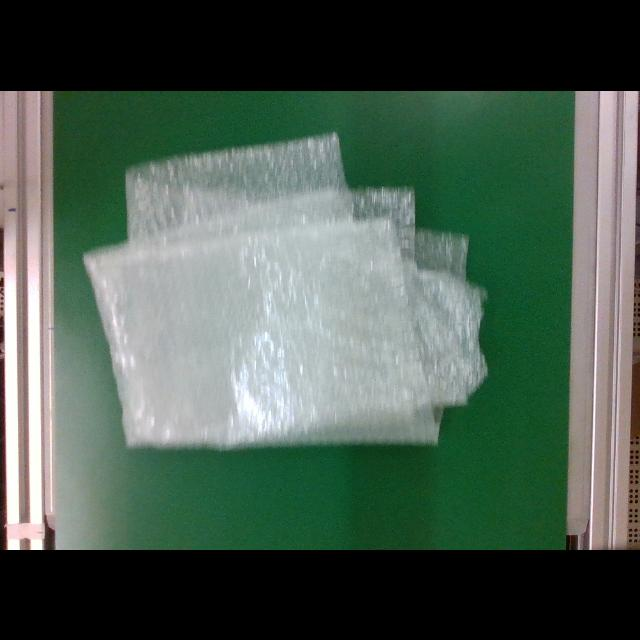scrap_plastic: (82, 127, 490, 455)
